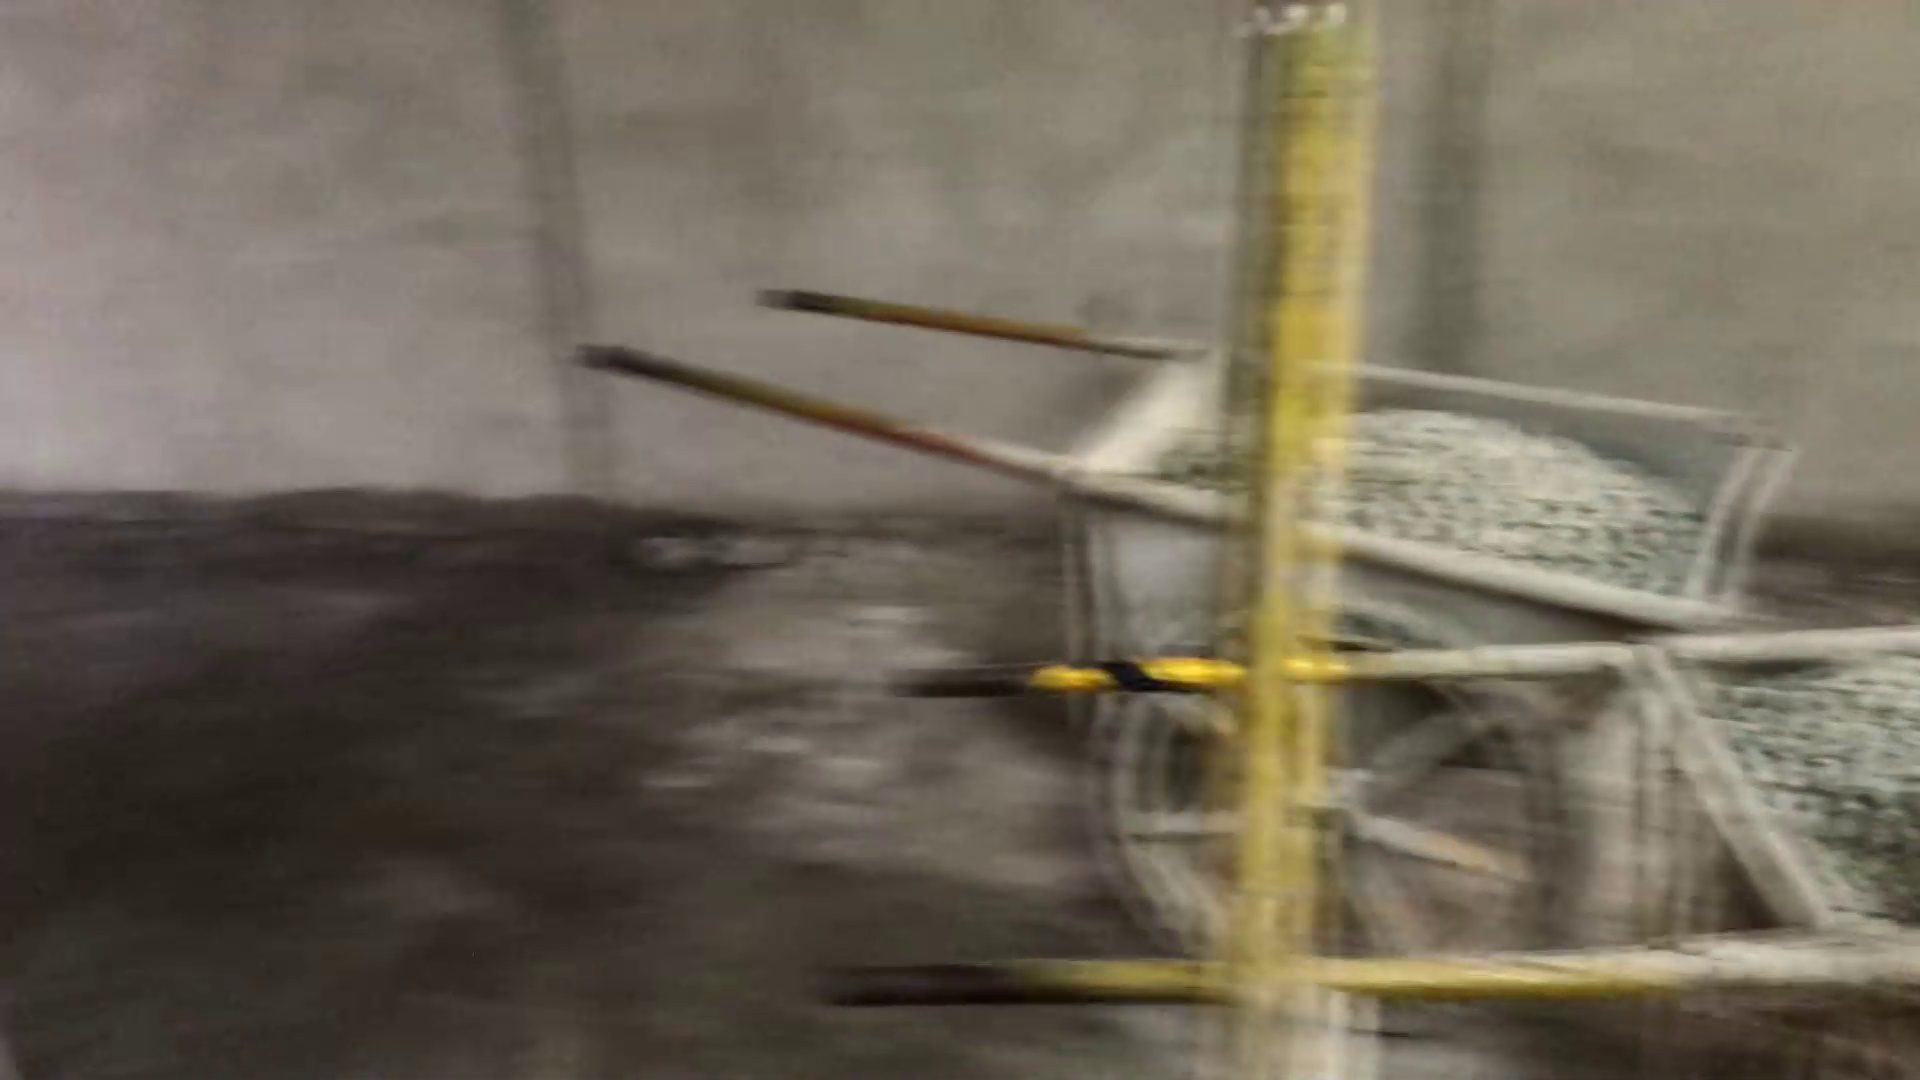handcart: (597, 266, 1780, 940), (840, 634, 1920, 1075)
